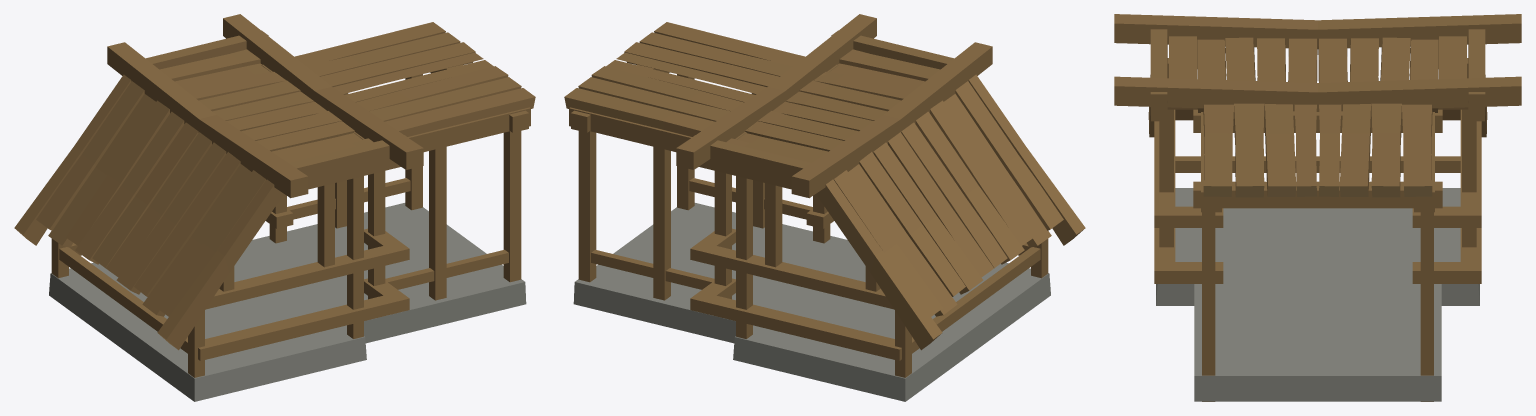
File: Shack-HuzLJcbUd2.glb
3 renders of one model, left to right at view 1: azimuth 30°, elevation 25°; view 2: azimuth 150°, elevation 25°; view 3: azimuth 270°, elevation 25°, orthographic. The views are drawn at different scales.
Visible parts, largest first — view 1: Houses_FirstAge_2_Level2; view 2: Houses_FirstAge_2_Level2; view 3: Houses_FirstAge_2_Level2.
Part boxes in pixels (box(x1,y1,x2,y2)): Houses_FirstAge_2_Level2: box(14, 14, 535, 401); Houses_FirstAge_2_Level2: box(564, 14, 1085, 401); Houses_FirstAge_2_Level2: box(1114, 14, 1521, 401).
Bounding box in the file's own units: 1.46 × 0.7685 × 1.17.
